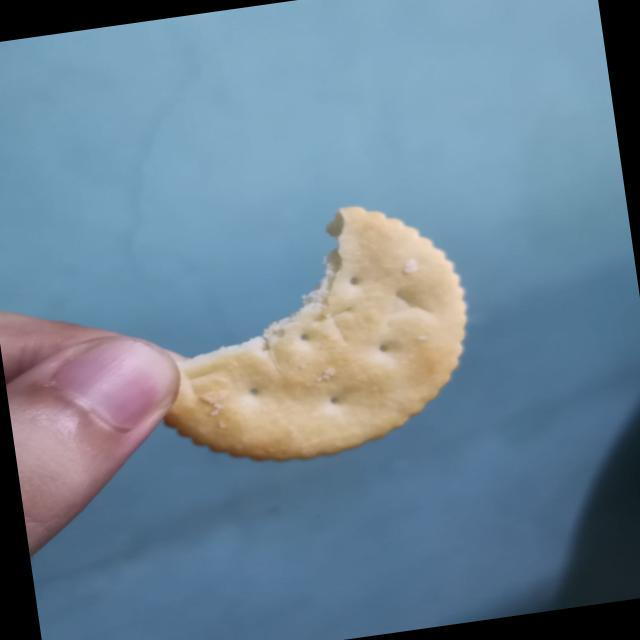broken biscuit: (135, 190, 488, 480)
